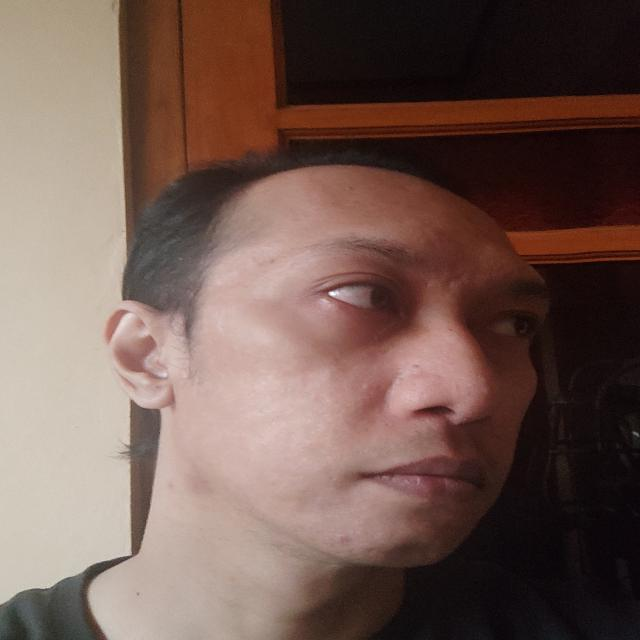Acne: (331, 530, 357, 546), (344, 184, 358, 193)
Englarged-Pores: (396, 376, 441, 404)
